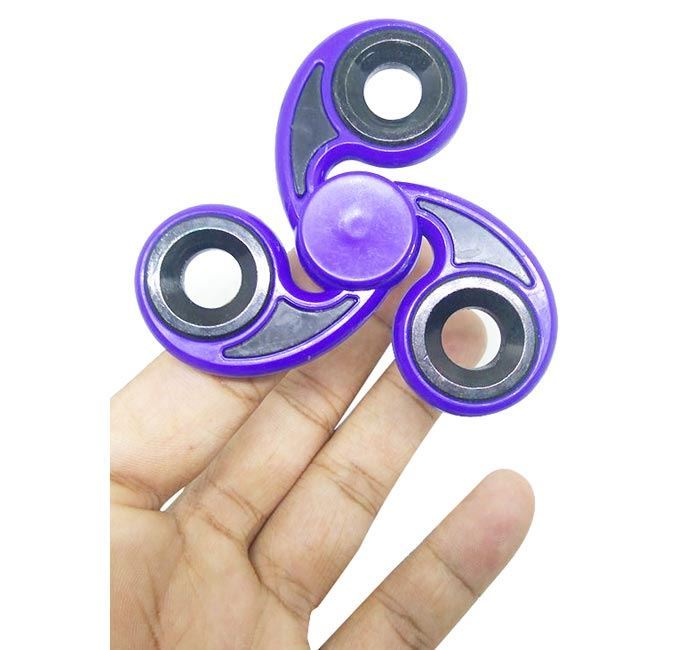fidget_spinner: (117, 8, 690, 482)
